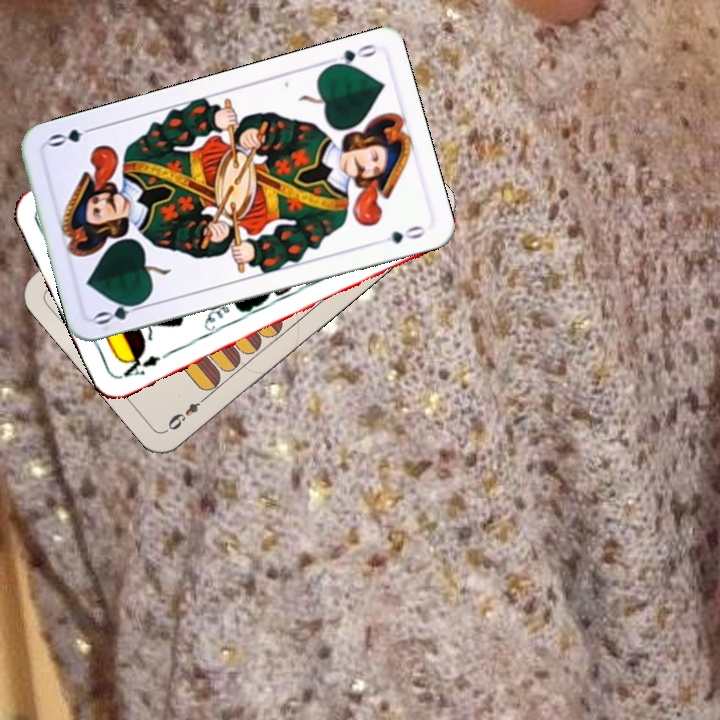E9: (162, 391, 211, 434)
EA: (118, 347, 173, 381)
GO: (91, 295, 150, 328), (320, 40, 379, 71)
